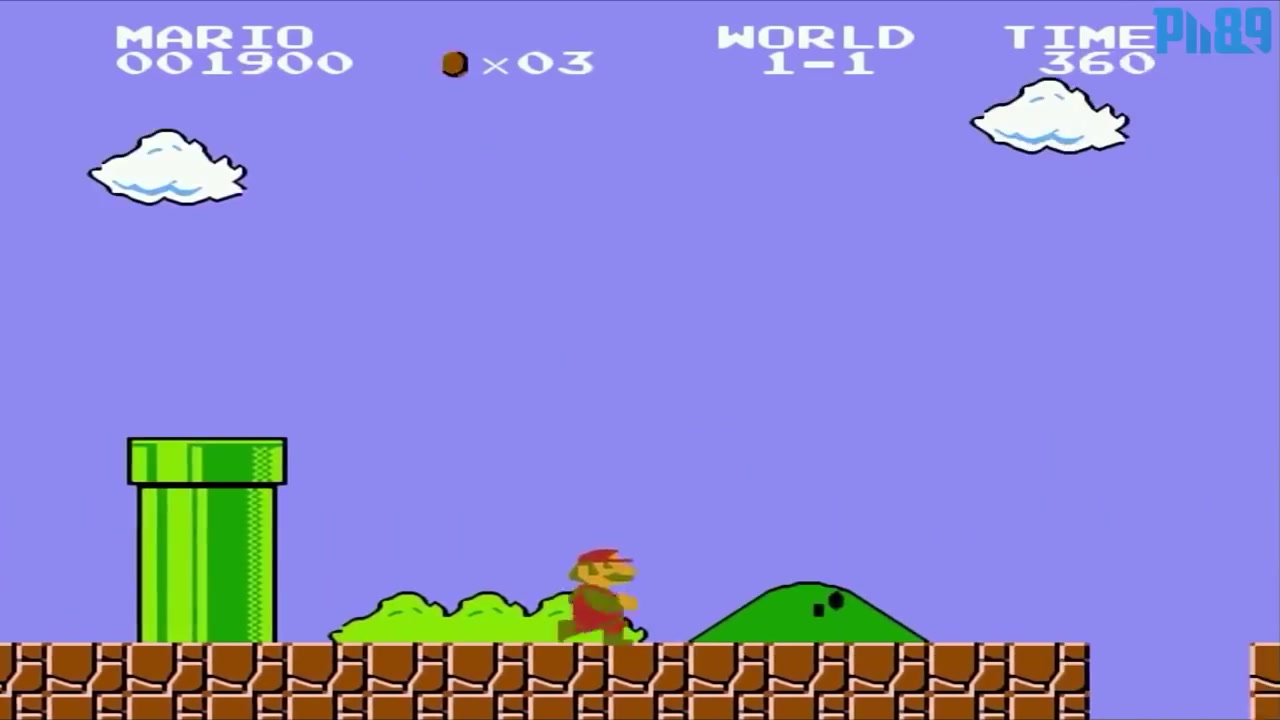mario: (547, 538, 641, 645)
